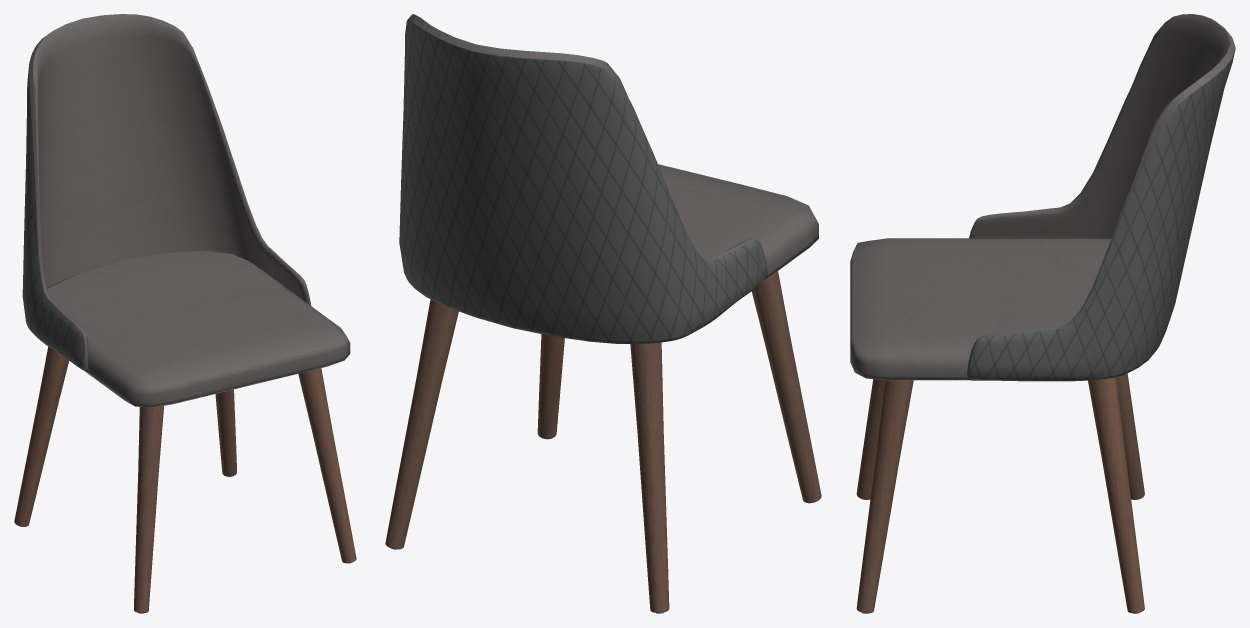
File: chair2.glb
3 renders of one model, left to right at view 1: azimuth 30°, elevation 25°; view 2: azimuth 150°, elevation 25°; view 3: azimuth 270°, elevation 25°, orthographic. The views are drawn at different scales.
Visible parts, largest first — view 1: fabric, wood; view 2: fabric, wood; view 3: fabric, wood.
Boxes of the visible parts, x1=… form: fabric: x1=22, y1=14, x2=350, y2=407; wood: x1=14, y1=346, x2=356, y2=613; fabric: x1=399, y1=14, x2=818, y2=344; wood: x1=385, y1=271, x2=821, y2=612; fabric: x1=850, y1=14, x2=1235, y2=381; wood: x1=856, y1=373, x2=1144, y2=613.
Bounding box in the file's own units: 497 × 916 × 625.
3 materials, 3 textured.
